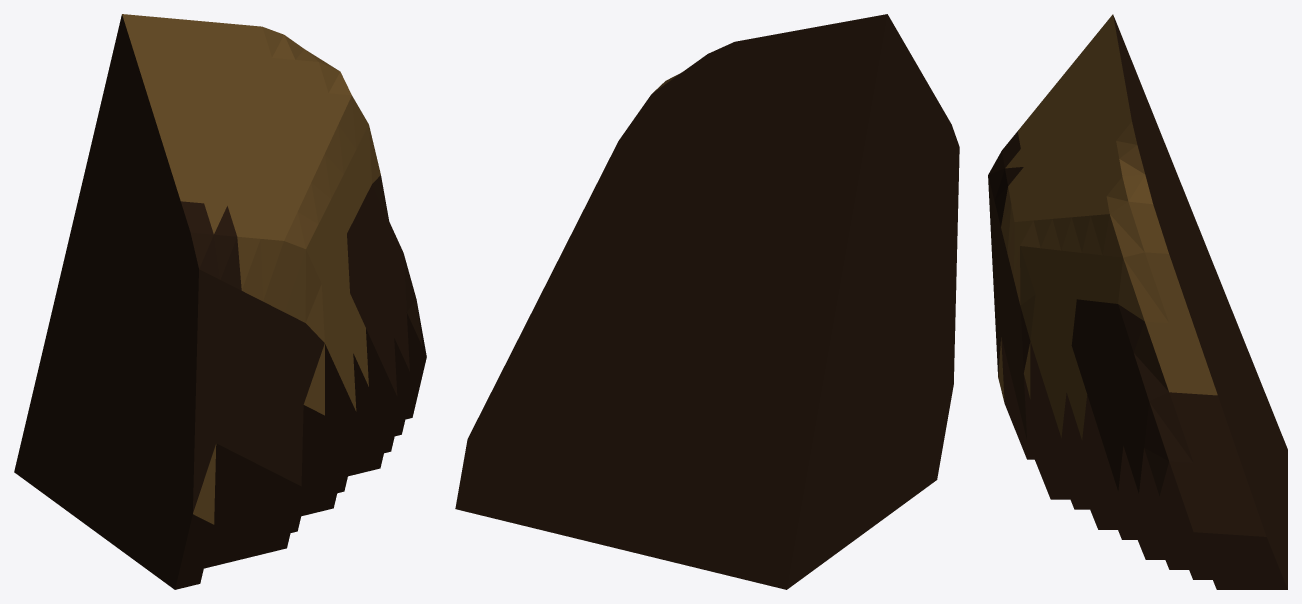
The model's file is ixm_boss_279.glb.
The picture shows the model from 3 angles, left to right: view 1: azimuth 30°, elevation 25°; view 2: azimuth 150°, elevation 25°; view 3: azimuth 270°, elevation 25°; orthographic projection. The views are drawn at different scales.
Parts seen in each view (by area): view 1: ixm_boss_279; view 2: ixm_boss_279; view 3: ixm_boss_279.
Part boxes in pixels (<box>): ixm_boss_279: <box>14,14,426,589</box>; ixm_boss_279: <box>455,14,959,589</box>; ixm_boss_279: <box>988,14,1287,589</box>.
Size of the model in its own units: 7 by 10.13 by 6.32.
